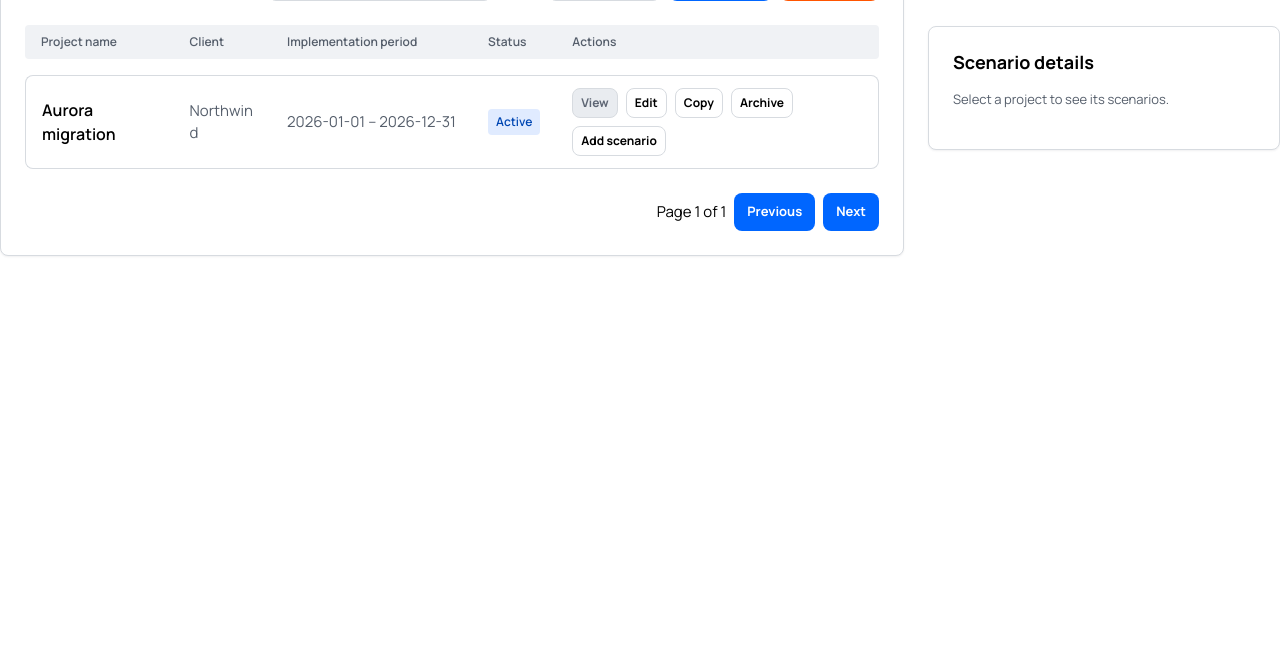
Test: K-02 — derived_capacity_state's two states never collapse into a silent 0.00 › renders a number for 'resolved' and this field's own named state for 'no_calendar', on the same allocation row of two positions
Step 1. Click the button "Aurora migration" → (100, 122), box left=42, top=98, right=158, bottom=146
(page scrolled)
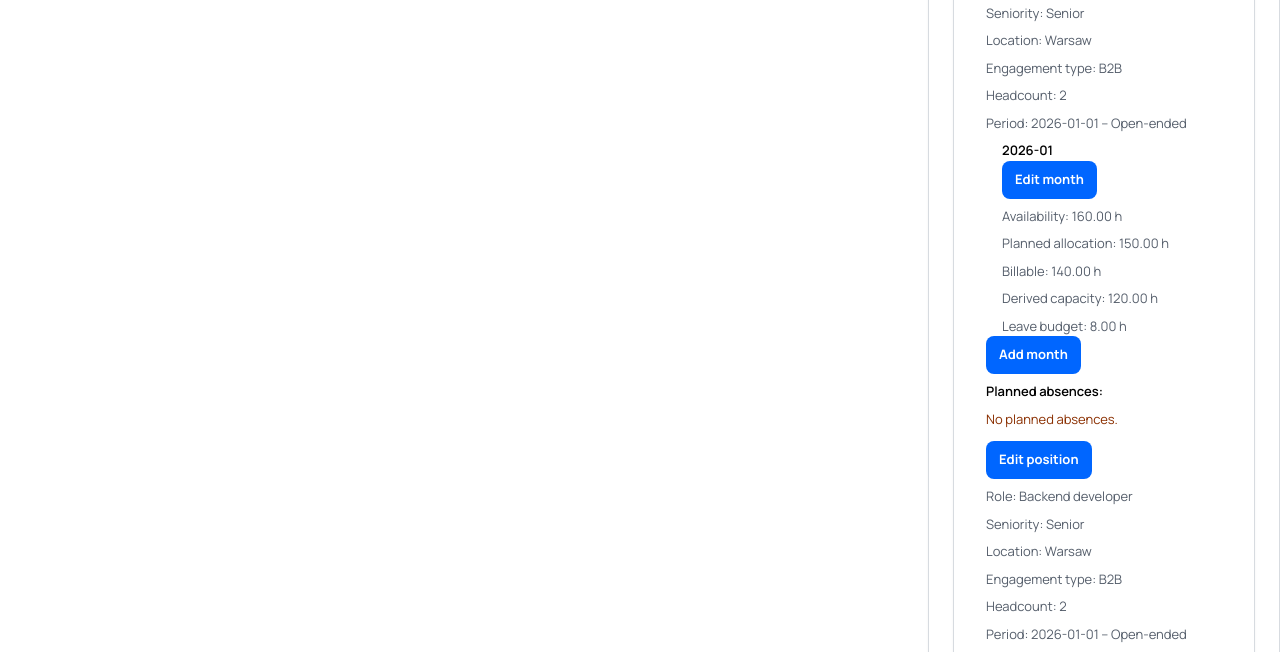
Check: the text "Derived capacity: 120.00 h" is shown, box left=1002, top=289, right=1158, bottom=307
